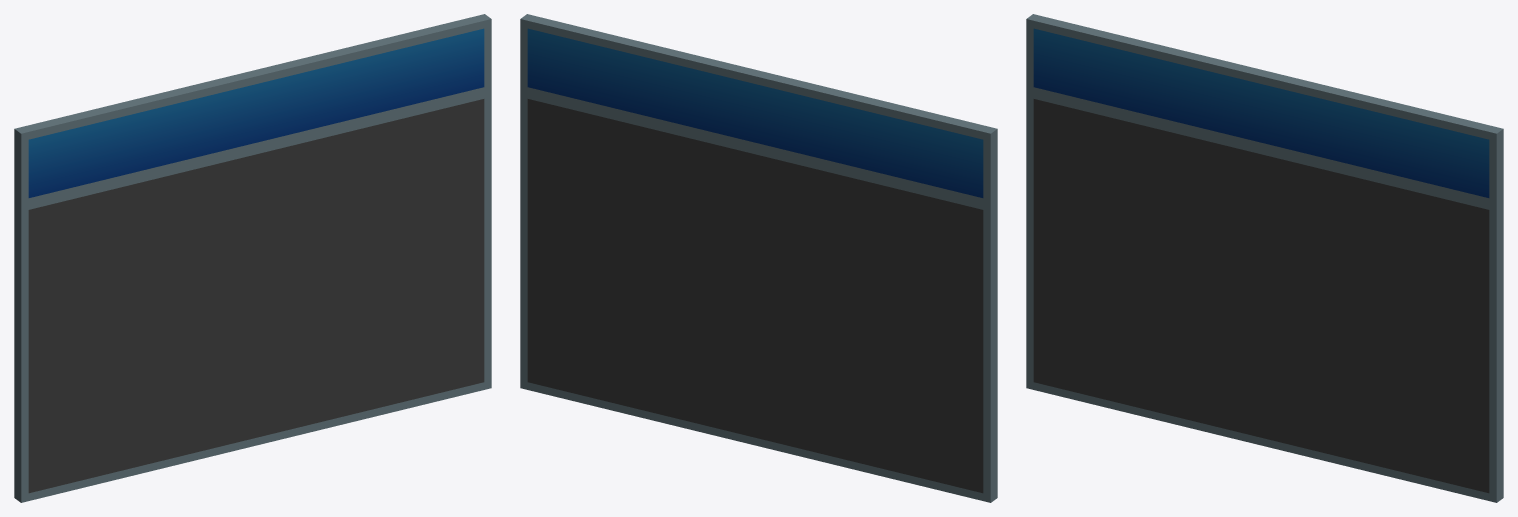
The model's file is CubicleWallV2Dark.fbx.
The picture shows the model from 3 angles, left to right: view 1: azimuth 30°, elevation 25°; view 2: azimuth 150°, elevation 25°; view 3: azimuth 330°, elevation 25°; orthographic projection.
Parts seen in each view (by area): view 1: CubicleWallV2Dark; view 2: CubicleWallV2Dark; view 3: CubicleWallV2Dark.
Part boxes in pixels (left/top/right/bottom): CubicleWallV2Dark: left=14, top=14, right=491, bottom=502; CubicleWallV2Dark: left=520, top=14, right=997, bottom=502; CubicleWallV2Dark: left=1026, top=14, right=1503, bottom=502.
Bounding box in the file's own units: 200 × 150 × 5.
